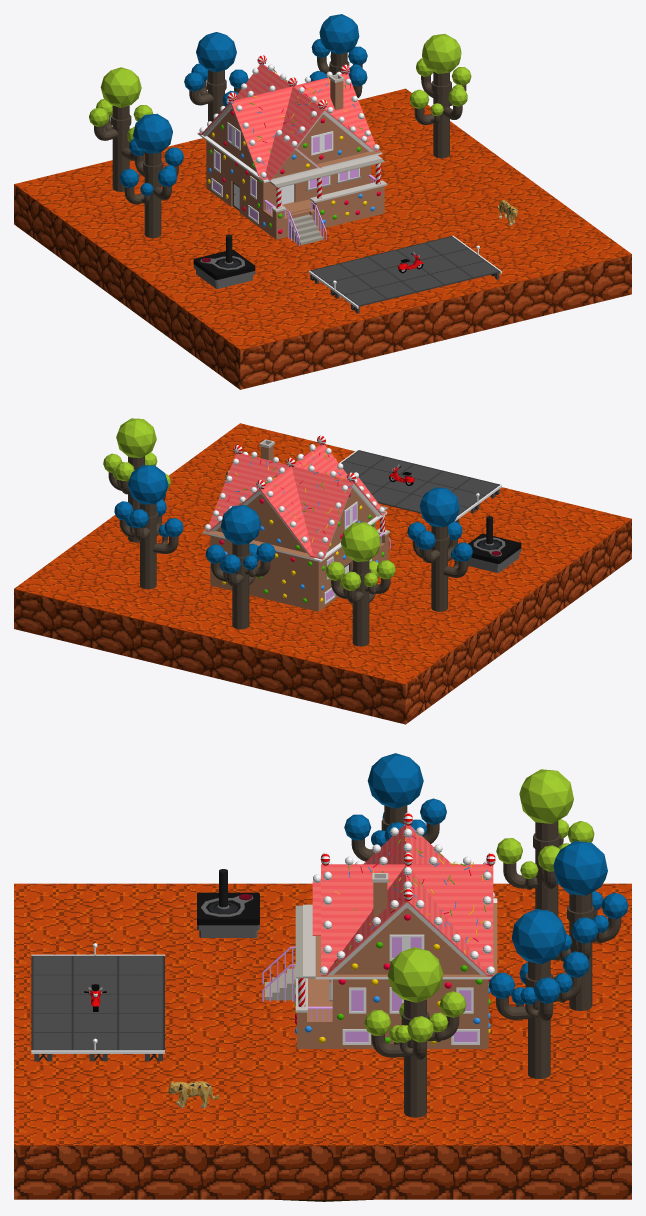
3 views of the same model, one above another, from view 1: azimuth 30°, elevation 25°; view 2: azimuth 150°, elevation 25°; view 3: azimuth 270°, elevation 25° (orthographic). The views are drawn at different scales.
Visible parts, largest first — view 1: Cube.001, Cube.1203, OBJRANDOM_JOYSTICK; view 2: Cube.001, Cube.1203, OBJRANDOM_JOYSTICK; view 3: Cube.001, Cube.1203, OBJRANDOM_JOYSTICK, ANIMAL_JAGUAR.
Part boxes in pixels (x1,y1,x2,y2): Cube.001: [14, 14, 631, 389]; Cube.1203: [197, 55, 387, 246]; OBJRANDOM_JOYSTICK: [193, 234, 255, 288]; Cube.001: [14, 418, 631, 724]; Cube.1203: [202, 435, 390, 611]; OBJRANDOM_JOYSTICK: [468, 516, 521, 572]; Cube.001: [14, 753, 631, 1199]; Cube.1203: [262, 812, 497, 1048]; OBJRANDOM_JOYSTICK: [197, 869, 259, 937]; ANIMAL_JAGUAR: [168, 1081, 219, 1108].
Size of the model in its own units: 4000 by 1730 by 4000.
Materials: 48 (5 with a texture image).
